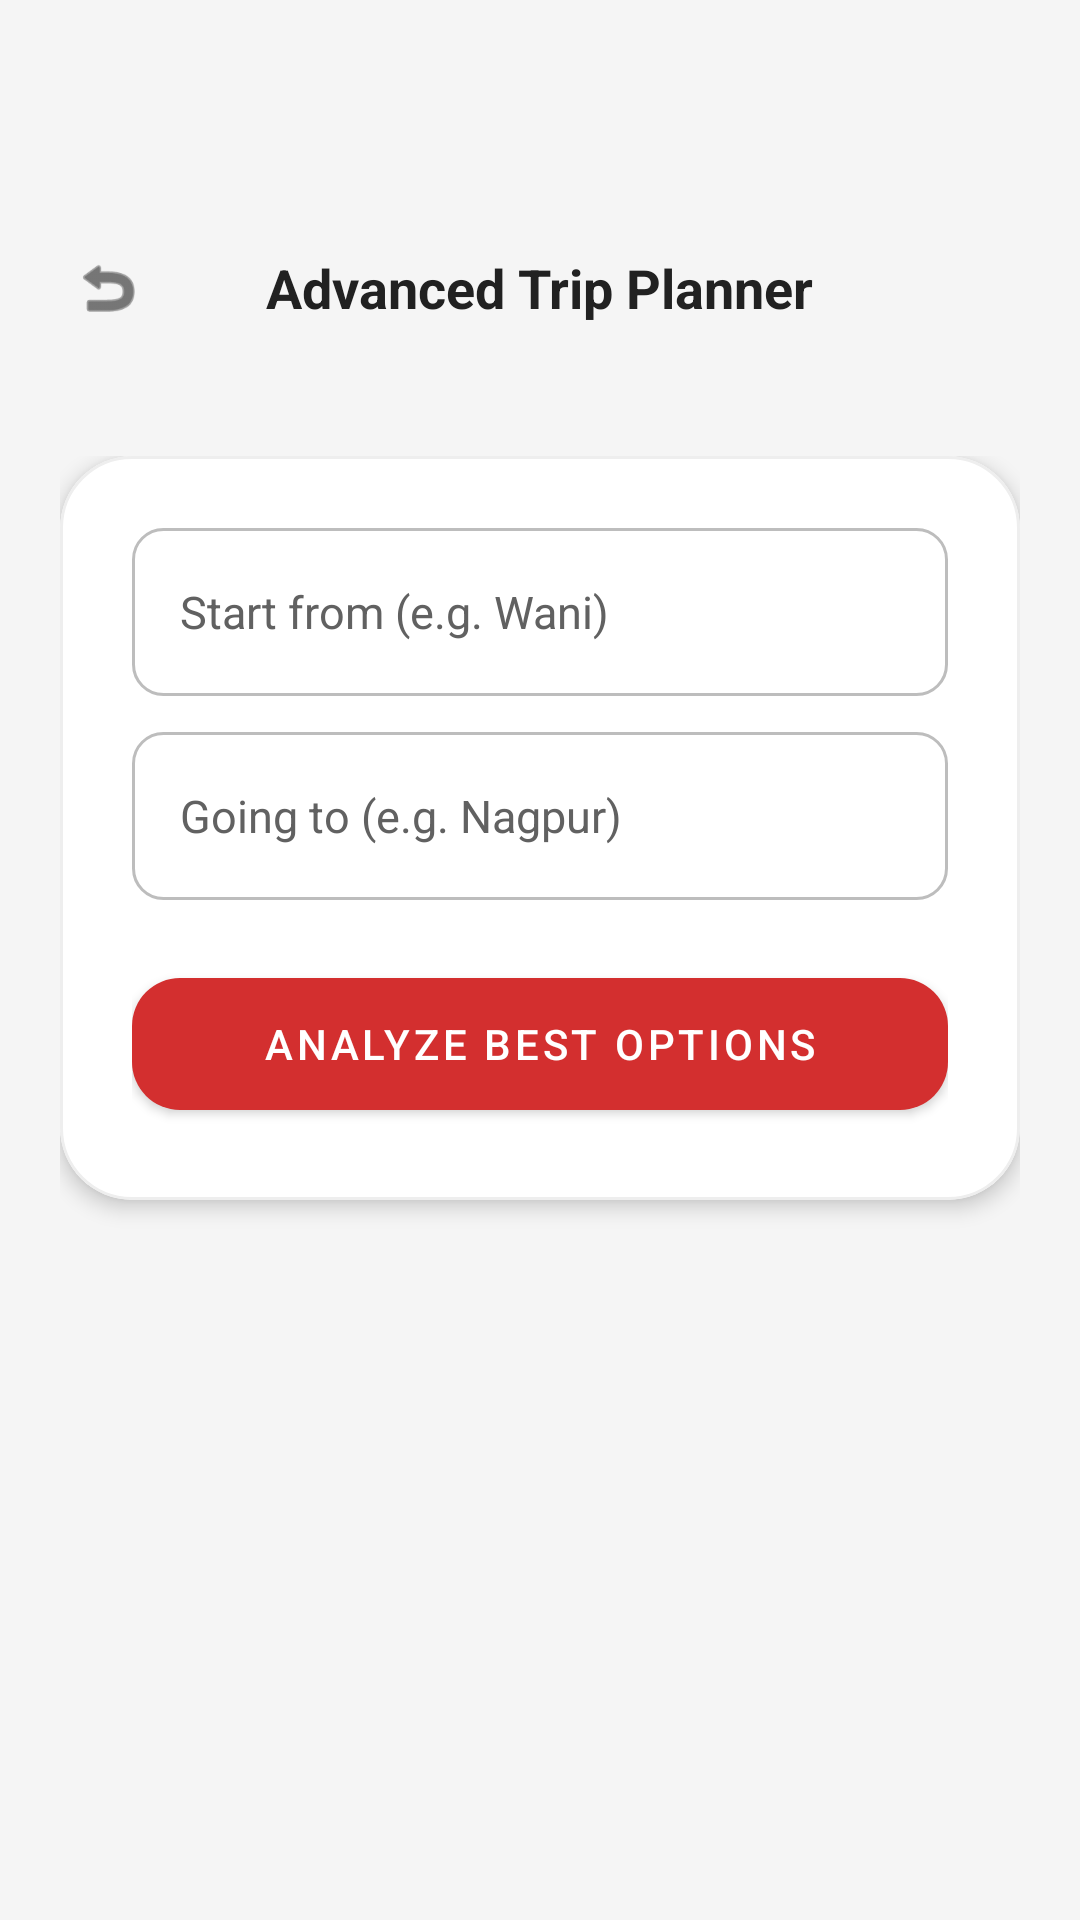

Icon bounding boxes for this 1080 × 1920 phone screenshot, format (x1, y1, x2, y2):
revert: (83, 265, 135, 312)
